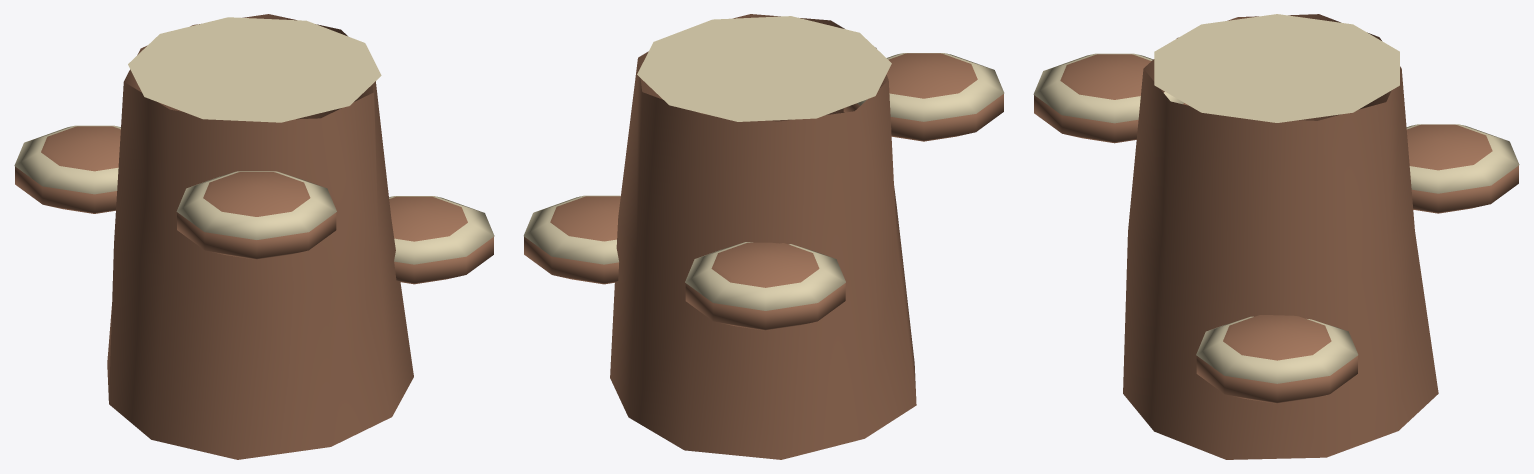
Rendered from ing_tinder_fungus.gltf.
The picture shows the model from 3 angles, left to right: view 1: azimuth 30°, elevation 25°; view 2: azimuth 150°, elevation 25°; view 3: azimuth 270°, elevation 25°; orthographic projection.
Parts seen in each view (by area): view 1: ing_tinder_fungus; view 2: ing_tinder_fungus; view 3: ing_tinder_fungus.
Part boxes in pixels (x1=…): ing_tinder_fungus: x1=14, y1=14, x2=494, y2=459; ing_tinder_fungus: x1=523, y1=14, x2=1004, y2=459; ing_tinder_fungus: x1=1033, y1=14, x2=1519, y2=459.
Size of what is drawn, in the model's own units: 0.4915 by 0.4 by 0.542.
